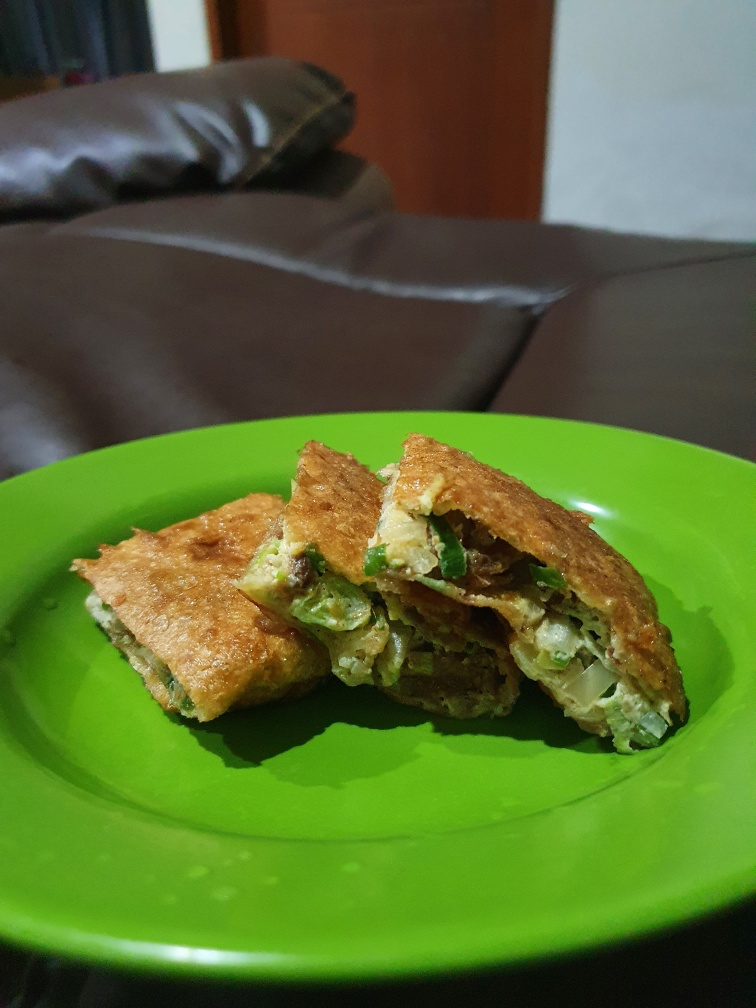martabak telor: (363, 411, 694, 757), (243, 432, 541, 722), (67, 488, 344, 726)
